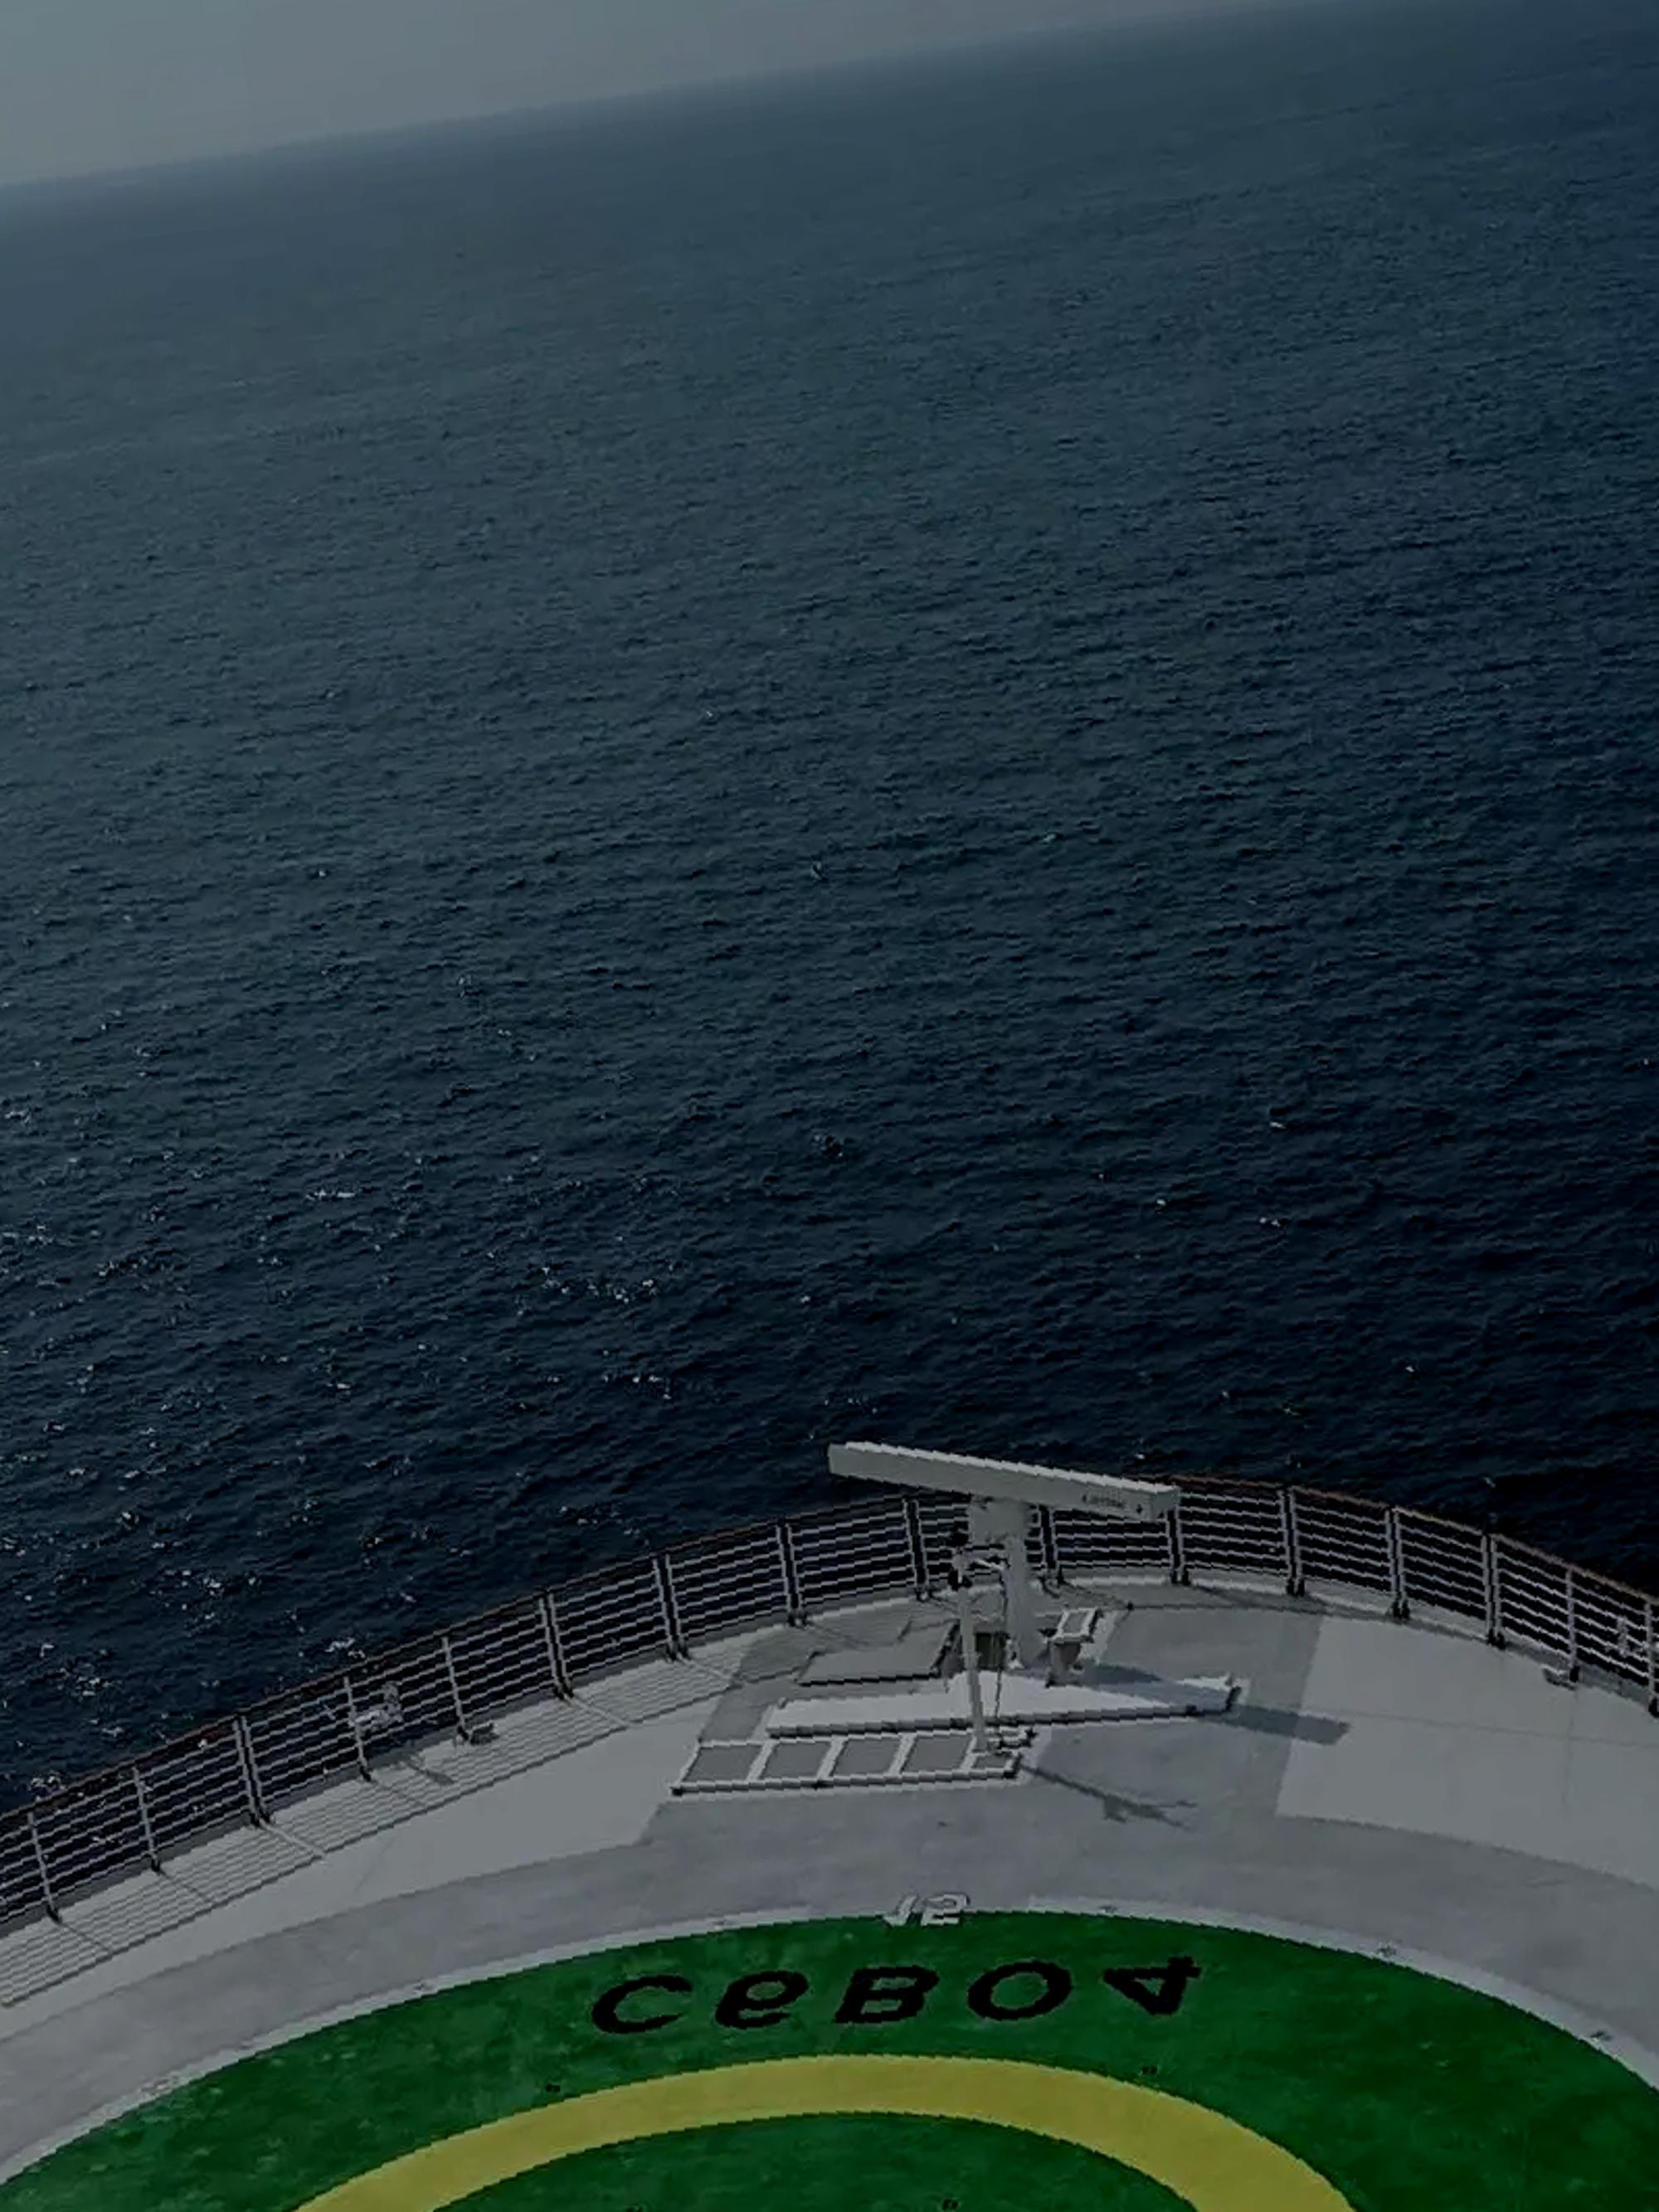Apron: (270, 2033, 1354, 2212)
